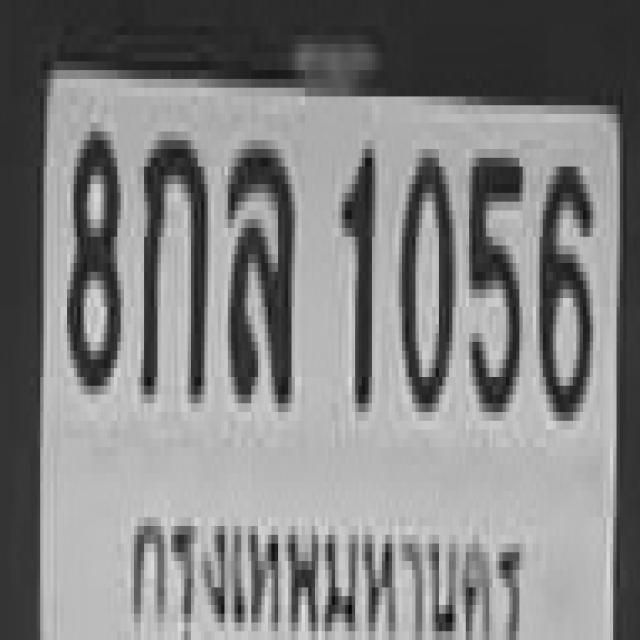0: (397, 140, 451, 404)
1: (338, 140, 372, 404)
10GorGai: (138, 123, 205, 394)
45LorLing: (224, 132, 292, 394)
5: (466, 149, 519, 403)
6: (536, 154, 590, 408)
8: (64, 122, 117, 386)
Bangkok: (129, 496, 526, 640)
